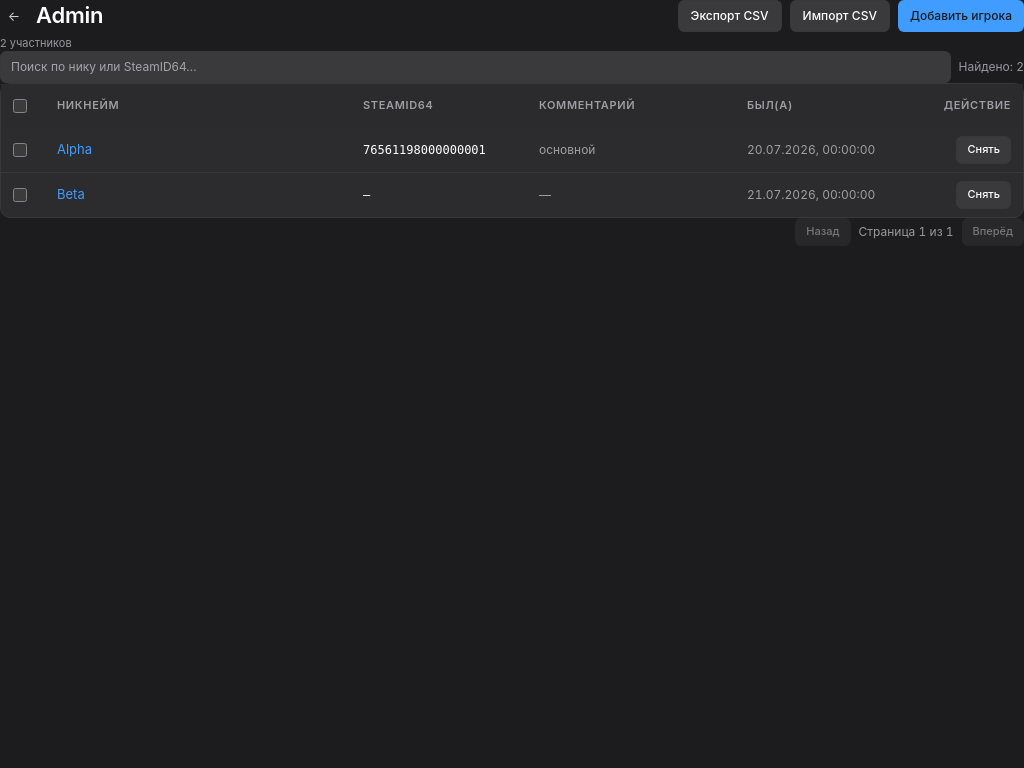
Test: MembersPage — branch coverage › selects a member, shows the bulk toolbar, and bulk-deletes on confirm
The image size is (1024, 768).
Expected: the link "Alpha" is shown, [57,141,92,157]
Click the checkbox named "Выбрать Alpha" next to "Alpha" at point(20, 150), box [13,143,27,157]
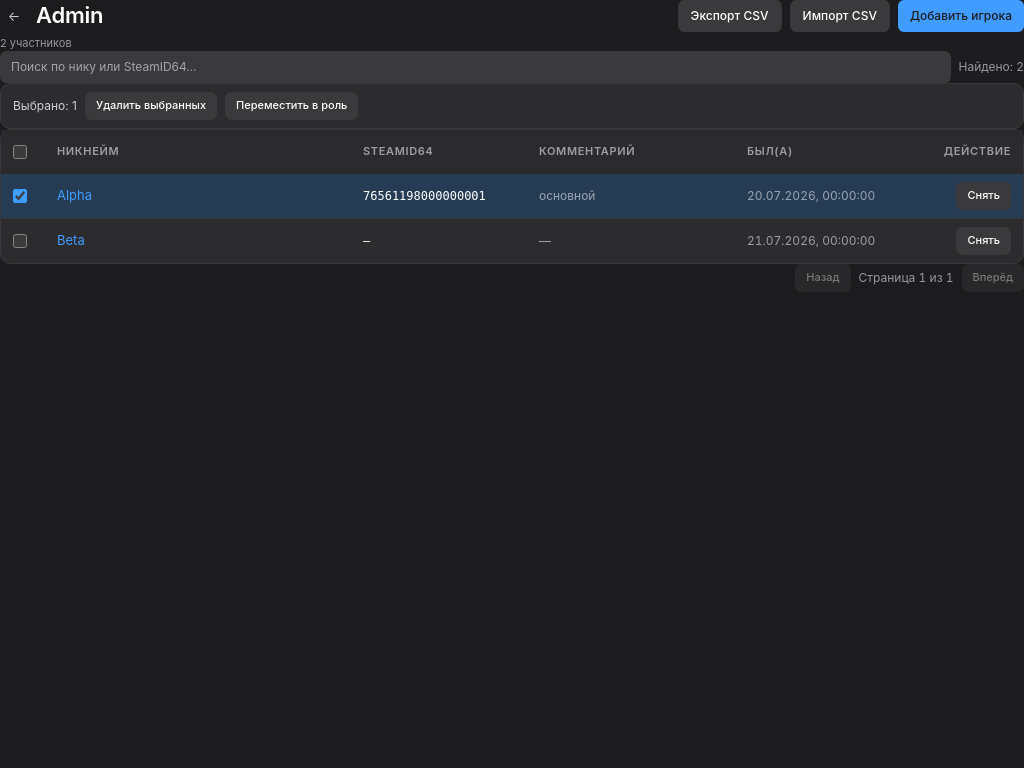
Now the element with test id "bulk-toolbar" shows "Выбрано: 1", box [0,83,1023,129]
Click the button "Удалить выбранных" at point(151, 106), box [85,92,217,120]
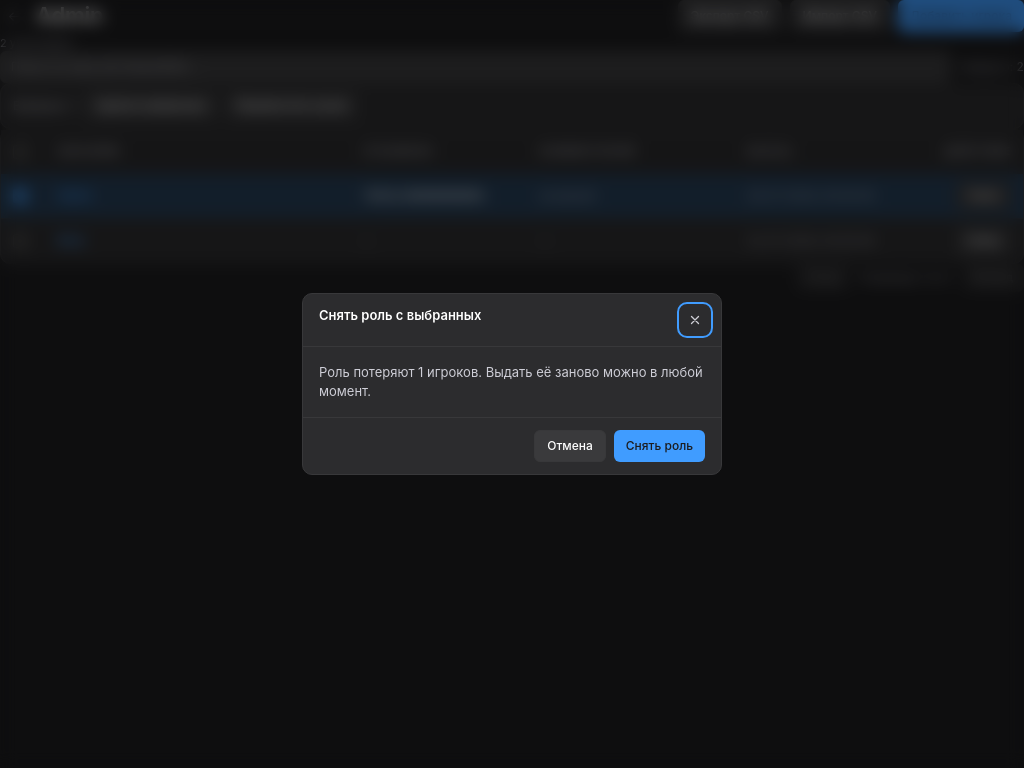
Click the button "Снять роль" at point(659, 446), box [614,430,705,462]
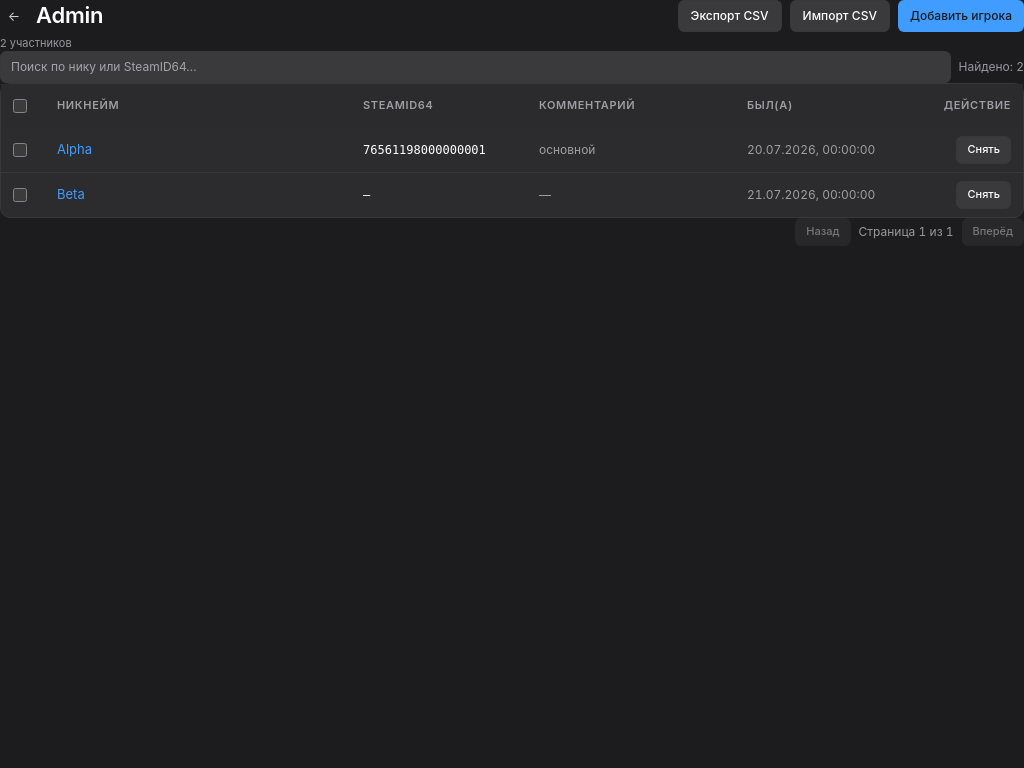
Now the element with test id "bulk-toolbar" is gone
